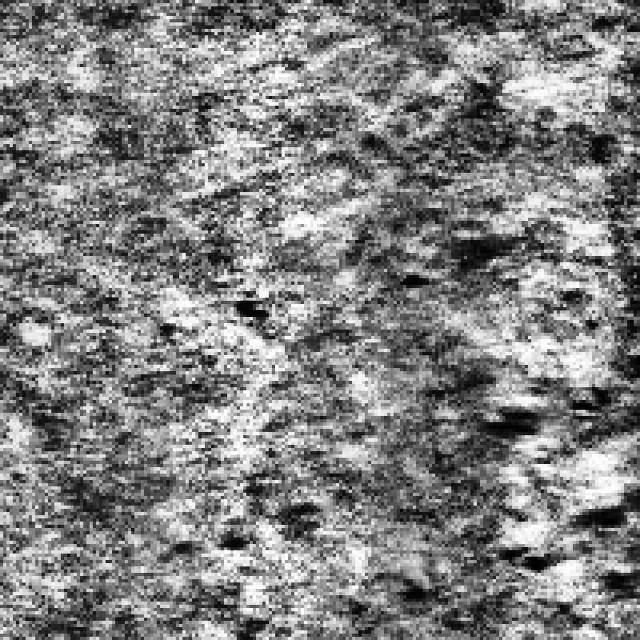Crazing: (464, 358, 637, 612)
